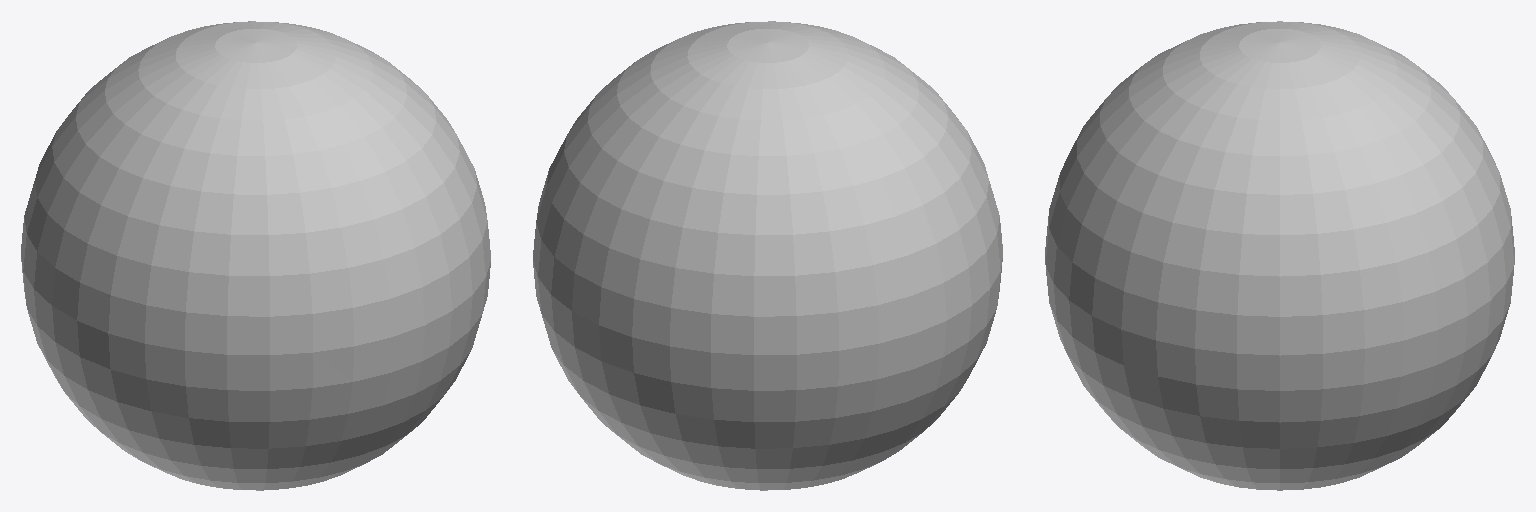
Rendered from sphere_normals.obj.
The picture shows the model from 3 angles: view 1: azimuth 30°, elevation 25°; view 2: azimuth 150°, elevation 25°; view 3: azimuth 270°, elevation 25°; orthographic projection.
Parts seen in each view (by area): view 1: Sphere; view 2: Sphere; view 3: Sphere.
Boxes of the visible parts, x1,y1,x2,y2 form: Sphere: [21, 21, 490, 490]; Sphere: [533, 21, 1002, 490]; Sphere: [1045, 21, 1514, 490].
Bounding box in the file's own units: 2 × 2 × 1.99.